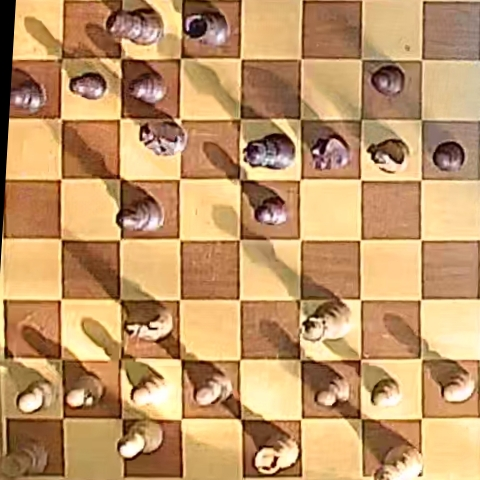black-bishop: (119, 195, 164, 231)
black-king: (107, 8, 163, 45)
black-knight: (139, 121, 186, 156), (311, 134, 350, 170)
black-pawn: (11, 78, 47, 113), (129, 72, 167, 103), (371, 65, 405, 96), (70, 72, 107, 100), (432, 141, 465, 172), (255, 196, 288, 226)
black-queen: (244, 134, 294, 170)
black-rook: (183, 10, 230, 46)
white-bishop: (119, 420, 163, 459)
white-king: (377, 444, 423, 480)
white-knight: (124, 302, 173, 343), (367, 139, 409, 173)
white-pawn: (66, 373, 104, 409), (192, 373, 233, 406), (130, 372, 168, 407), (17, 379, 54, 414), (315, 373, 351, 408), (442, 370, 477, 403), (371, 378, 402, 408)
white-queen: (303, 299, 352, 343)
white-rook: (255, 434, 300, 474), (2, 439, 49, 477)
